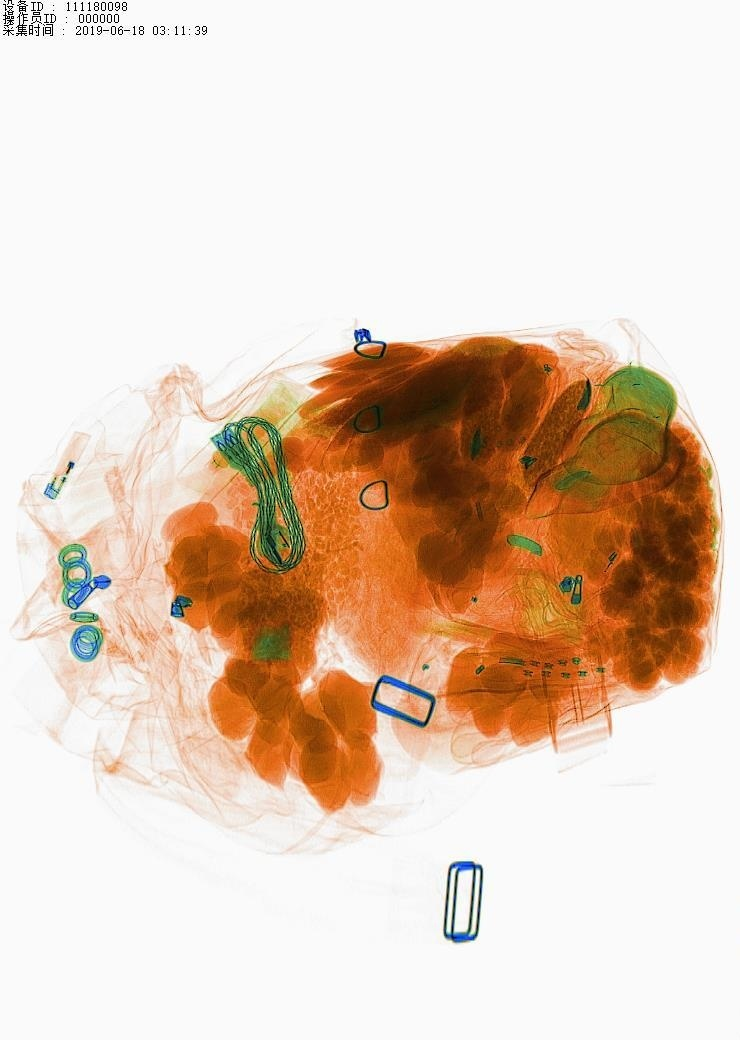NonmetallicFire: (37, 424, 107, 510)
